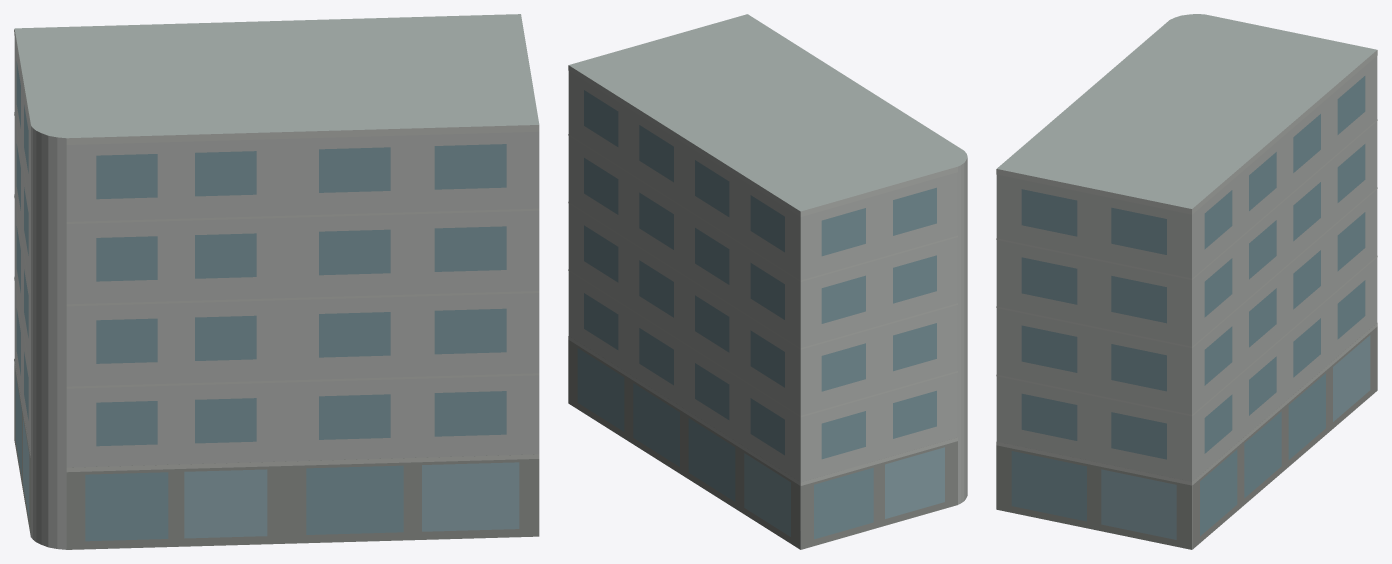
The model's file is survey-upis-32630384.glb.
3 views of the same model, side by side, from view 1: azimuth 30°, elevation 25°; view 2: azimuth 150°, elevation 25°; view 3: azimuth 270°, elevation 25° (orthographic). The views are drawn at different scales.
Parts seen in each view (by area): view 1: survey-upis-32630384.tmp; view 2: survey-upis-32630384.tmp; view 3: survey-upis-32630384.tmp.
Boxes of the visible parts, left/top/right/bottom form: survey-upis-32630384.tmp: left=14, top=14, right=539, bottom=549; survey-upis-32630384.tmp: left=568, top=14, right=967, bottom=549; survey-upis-32630384.tmp: left=996, top=14, right=1377, bottom=549.
Bounding box in the file's own units: 17.94 × 14.6 × 14.82.
